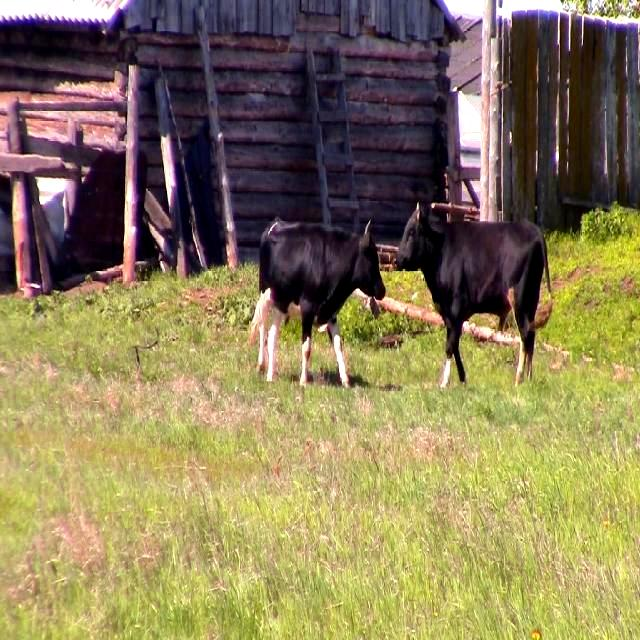COW: (396, 205, 550, 387), (251, 221, 385, 387)
